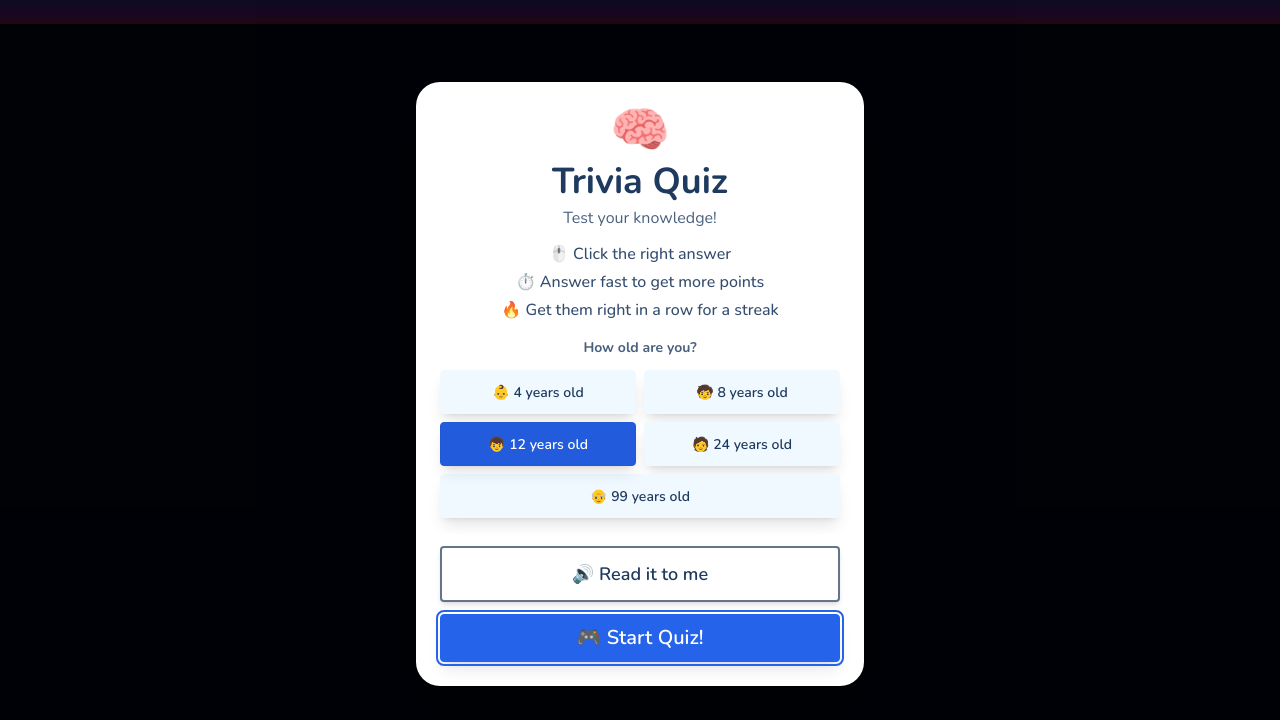
Test: trivia start overlay › shows a kid-friendly message when the questions fail to load, and Play works again
Step 1. Click the button "🎮 Start Quiz!" → [640, 638], box [440,614,840,662]
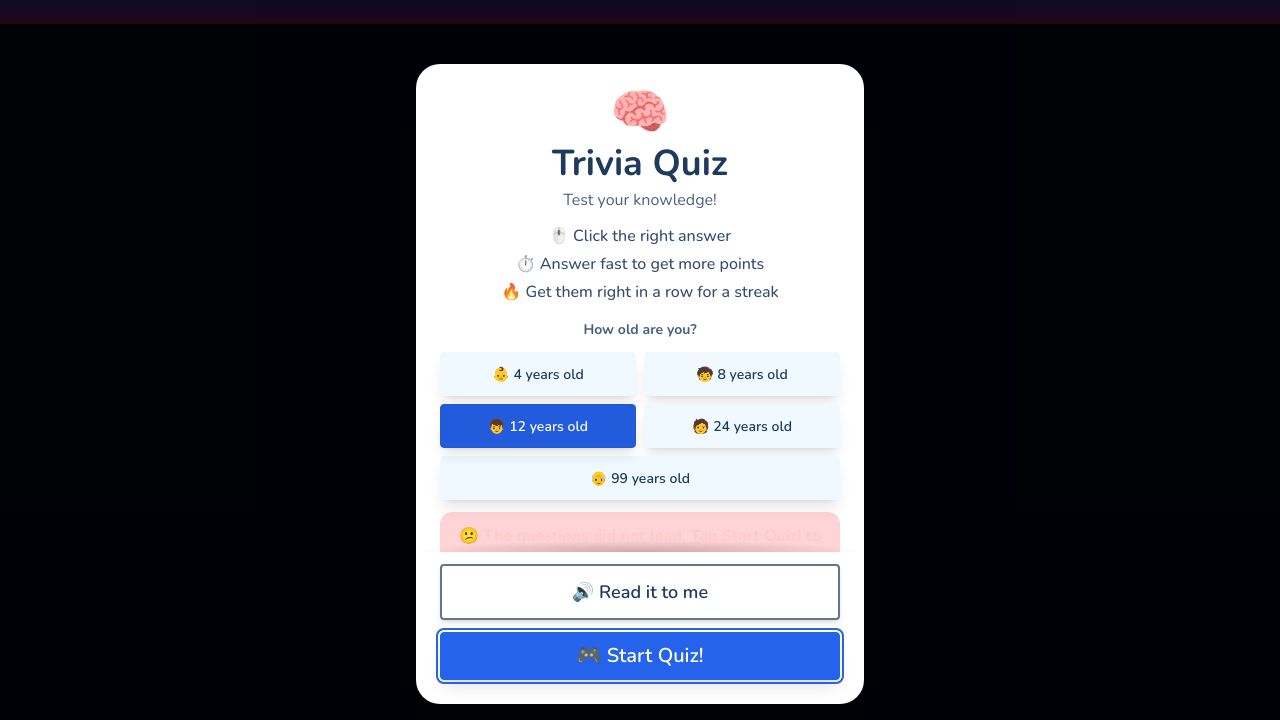
Step 2. Click the button "🎮 Start Quiz!" → [640, 656], box [440,632,840,680]
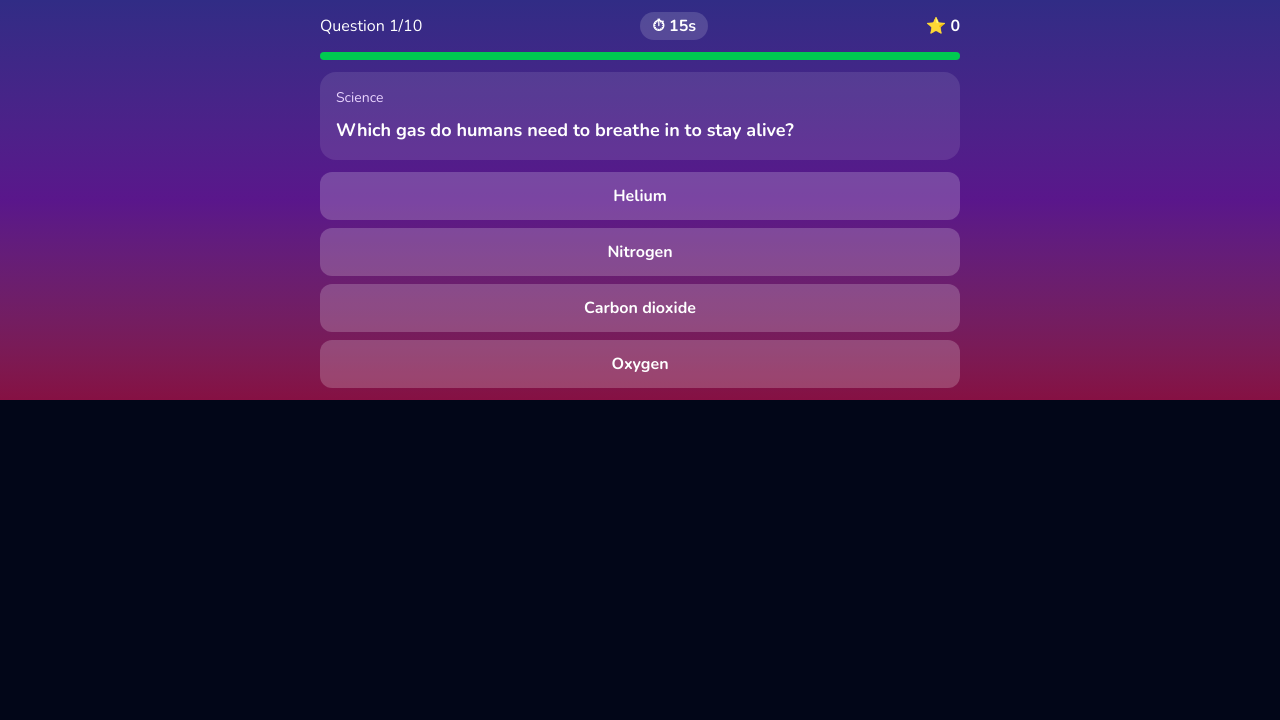
Expected: the message "😕 The questions did not load. Tap Start Quiz! to try again." is gone
